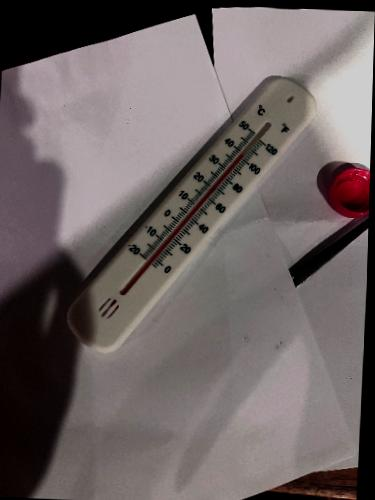thermo: (54, 68, 328, 365)
